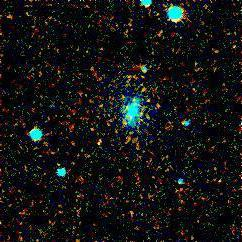star: (89, 124, 119, 154)
